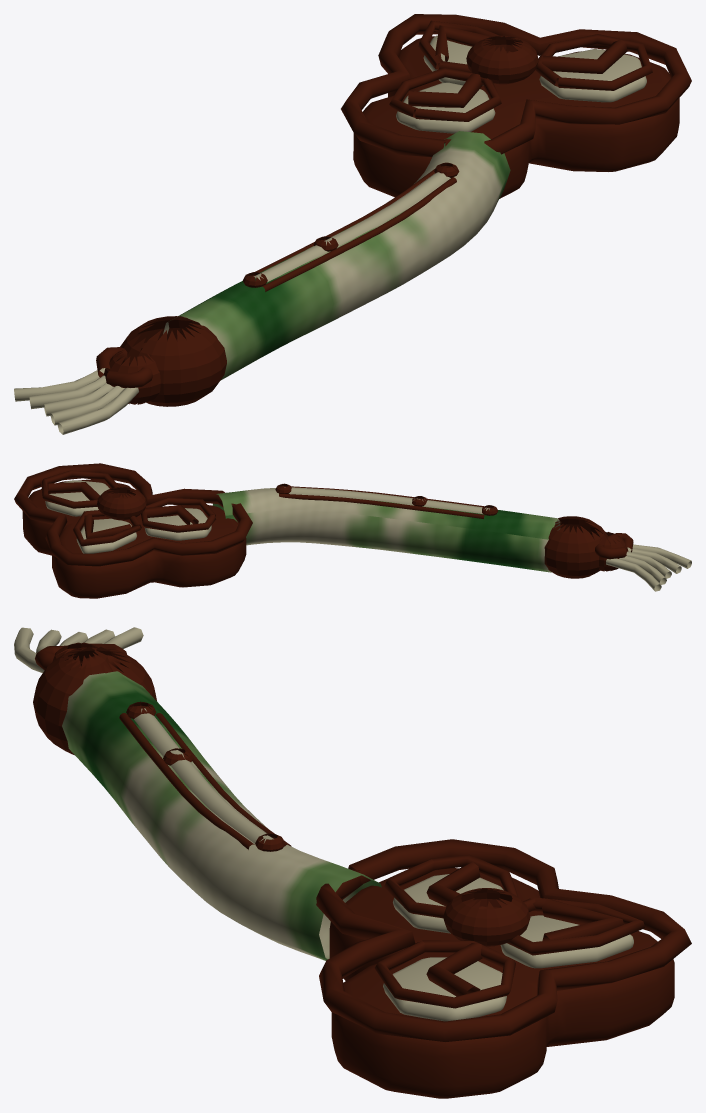
File: ruyi.fbx
3 renders of one model, top to bottom at view 1: azimuth 30°, elevation 25°; view 2: azimuth 150°, elevation 25°; view 3: azimuth 270°, elevation 25°, orthographic. The views are drawn at different scales.
Visible parts, largest first — view 1: ruyi; view 2: ruyi; view 3: ruyi.
Part boxes in pixels (left/top/right/bottom): ruyi: left=14, top=14, right=691, bottom=434; ruyi: left=14, top=463, right=691, bottom=598; ruyi: left=14, top=627, right=691, bottom=1098.
Size of the model in its own units: 100 by 14.23 by 61.15.
